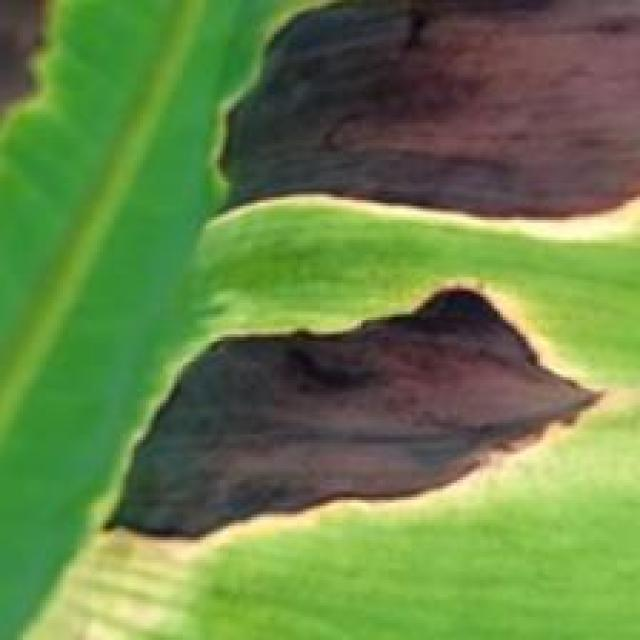Bacterial_spot: (92, 264, 617, 545), (208, 0, 640, 251), (0, 3, 60, 162)
